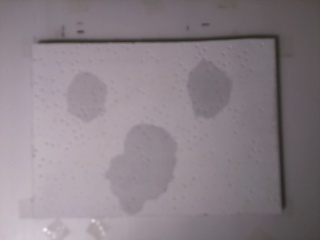Water_detected: (120, 130, 167, 203), (75, 82, 106, 119), (193, 73, 222, 112)
